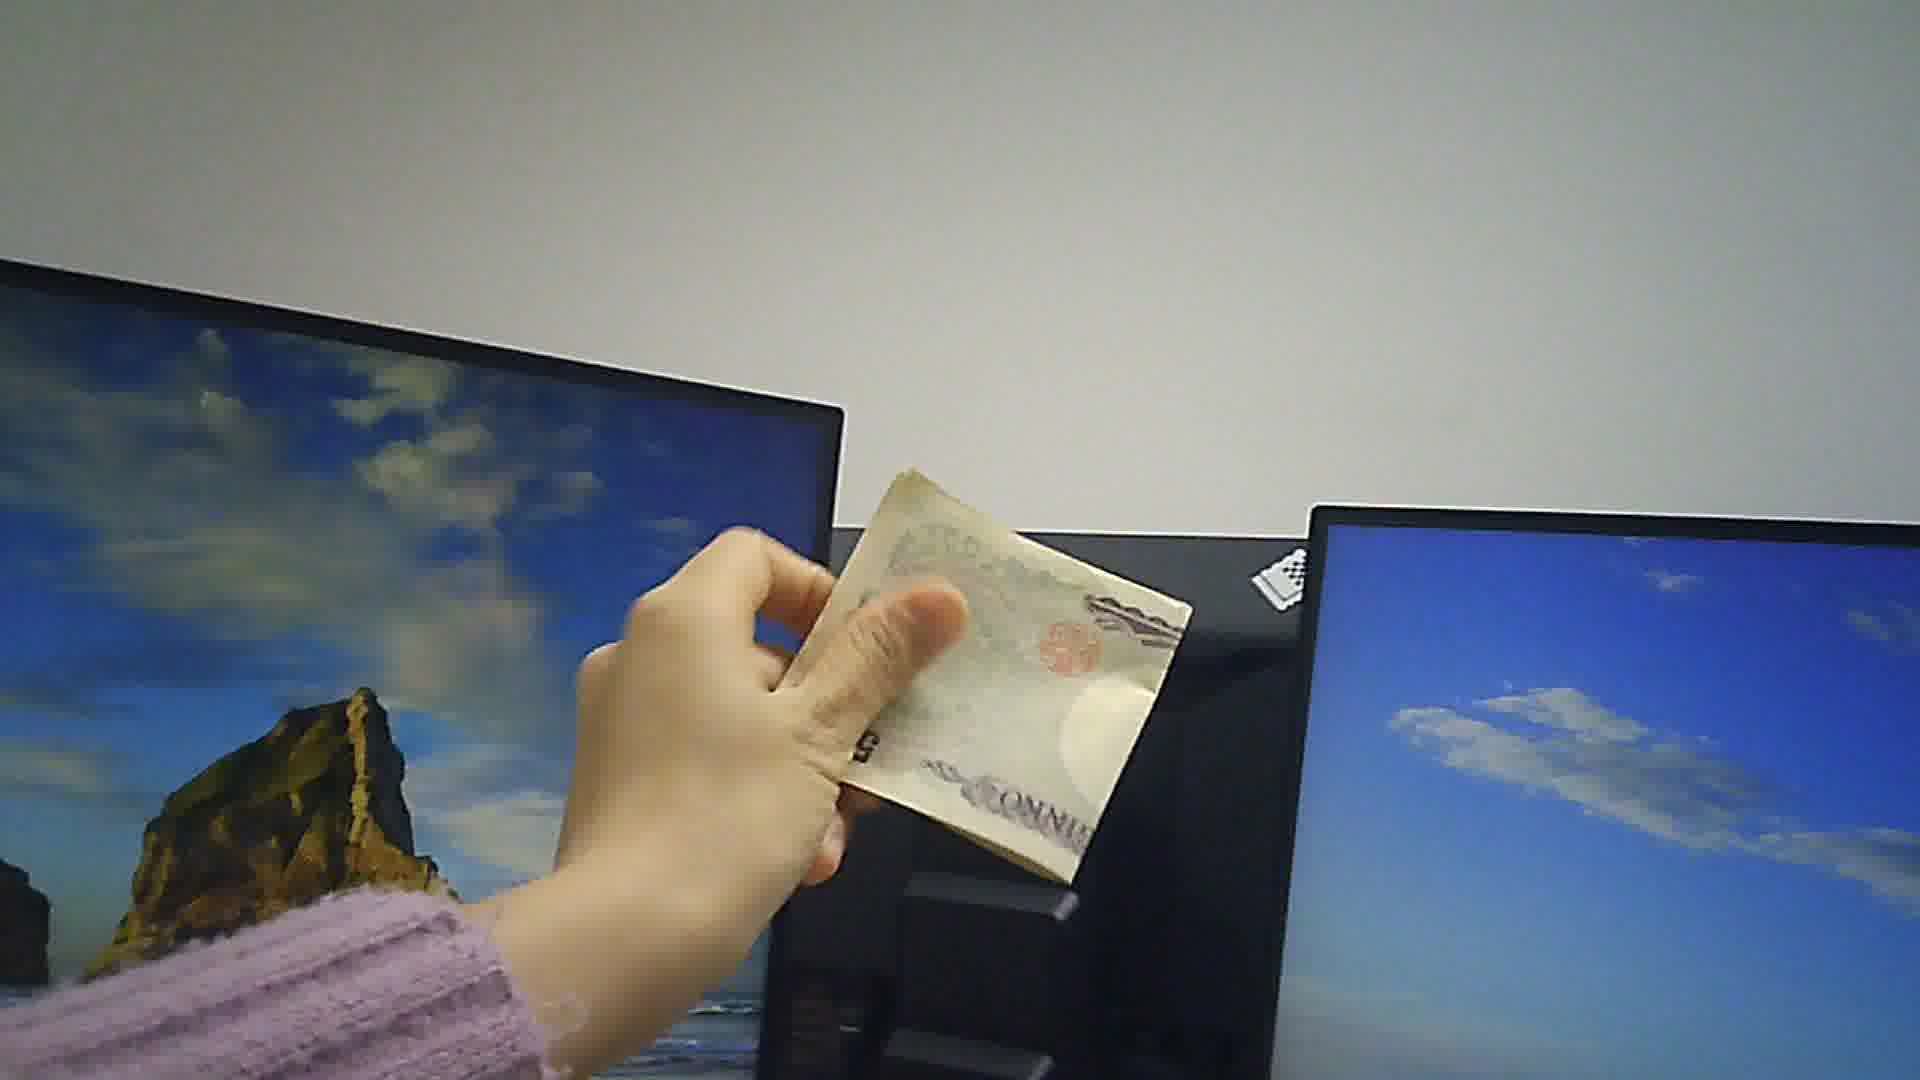5,000 Yen: (765, 468, 1203, 886)
